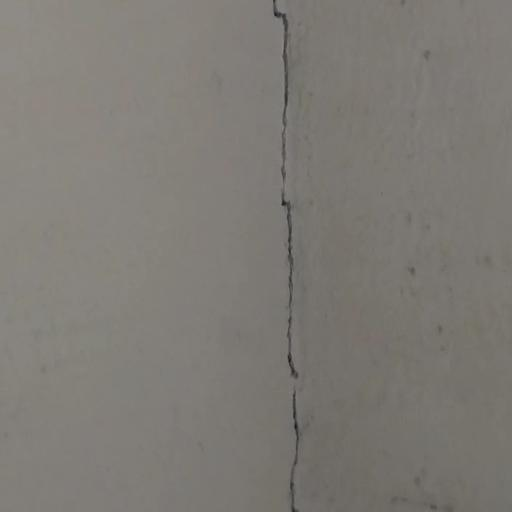minor_crack: (258, 0, 316, 512)
